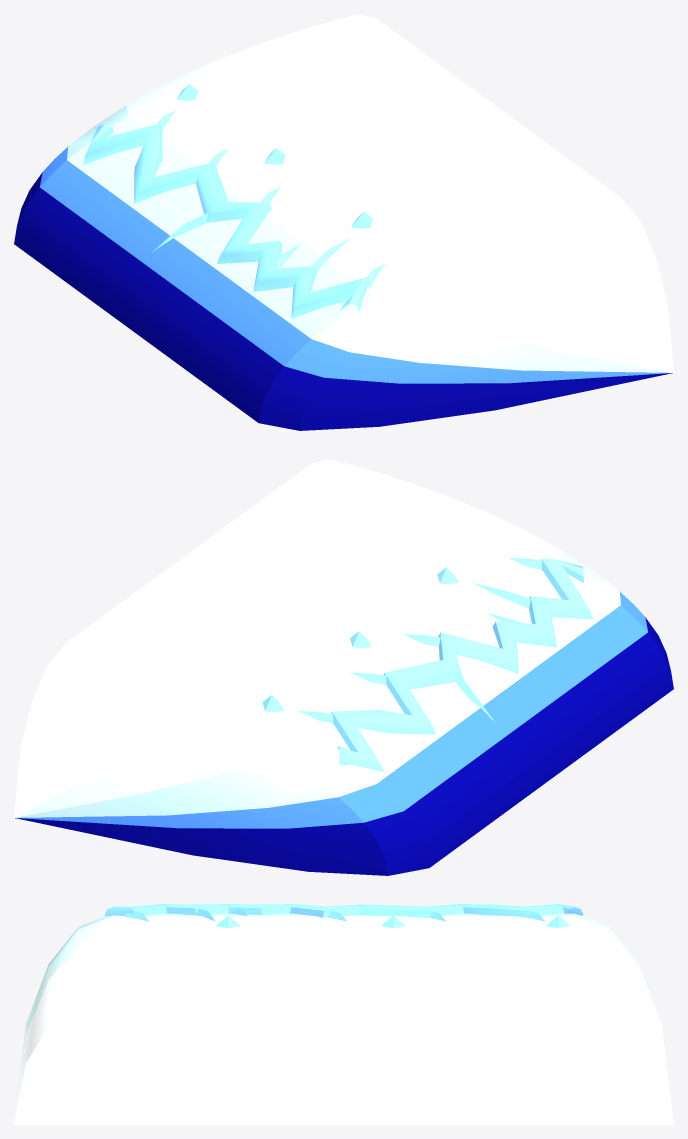
The model's file is shot_sdf_59.glb.
The picture shows the model from 3 angles, top to bottom: view 1: azimuth 30°, elevation 25°; view 2: azimuth 150°, elevation 25°; view 3: azimuth 270°, elevation 25°; orthographic projection. The views are drawn at different scales.
Parts seen in each view (by area): view 1: shot_sdf_59_rod, shot_sdf_59_rod_bottom, shot_sdf_59_crackle, shot_sdf_59_rod_top; view 2: shot_sdf_59_rod, shot_sdf_59_rod_top, shot_sdf_59_crackle, shot_sdf_59_rod_bottom; view 3: shot_sdf_59_rod, shot_sdf_59_rod_top, shot_sdf_59_rod_bottom, shot_sdf_59_crackle.
Part boxes in pixels (left/top/right/bottom): shot_sdf_59_rod: left=14, top=19, right=621, bottom=422; shot_sdf_59_rod_bottom: left=258, top=198, right=673, bottom=430; shot_sdf_59_crackle: left=83, top=84, right=385, bottom=318; shot_sdf_59_rod_top: left=17, top=14, right=376, bottom=225; shot_sdf_59_rod: left=66, top=464, right=673, bottom=867; shot_sdf_59_rod_top: left=14, top=643, right=429, bottom=875; shot_sdf_59_crackle: left=262, top=557, right=593, bottom=771; shot_sdf_59_rod_bottom: left=311, top=459, right=670, bottom=670; shot_sdf_59_rod: left=113, top=913, right=574, bottom=1124; shot_sdf_59_rod_top: left=575, top=913, right=673, bottom=1124; shot_sdf_59_rod_bottom: left=14, top=915, right=112, bottom=1124; shot_sdf_59_crackle: left=104, top=904, right=583, bottom=928.
Size of the model in its own units: 12 by 4.32 by 20.
